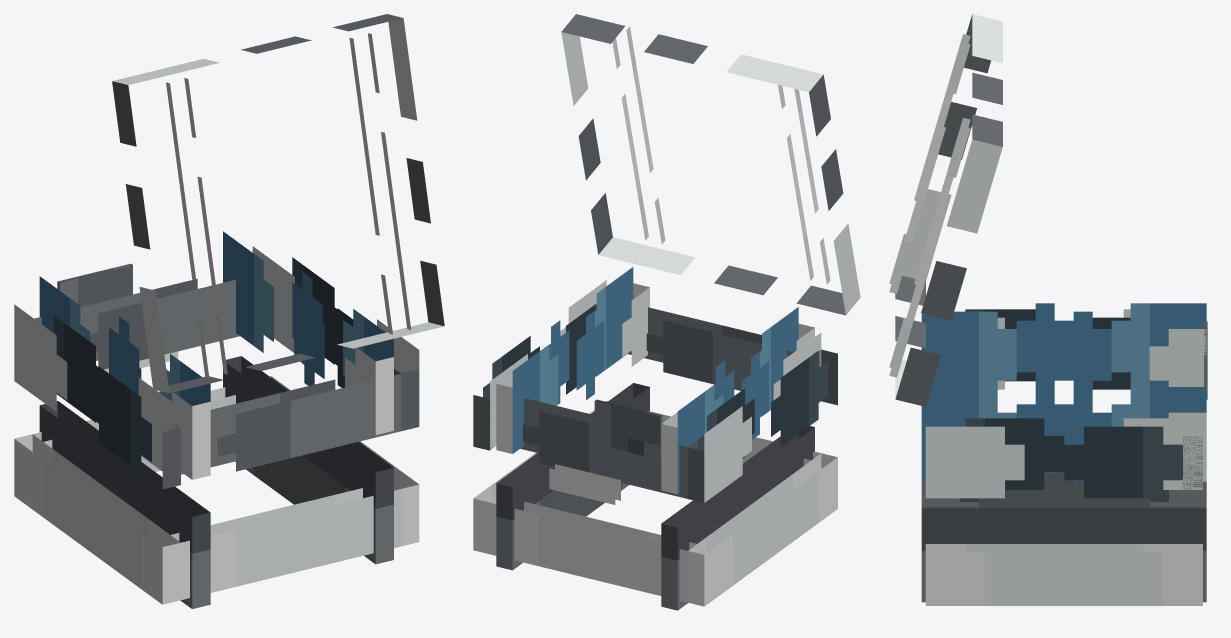
File: lab_storage_crate_open.obj
The picture shows the model from 3 angles, left to right: view 1: azimuth 30°, elevation 25°; view 2: azimuth 150°, elevation 25°; view 3: azimuth 270°, elevation 25°; orthographic projection. The views are drawn at different scales.
Size of the model in its own units: 0.9375 by 1.7 by 1.03.
